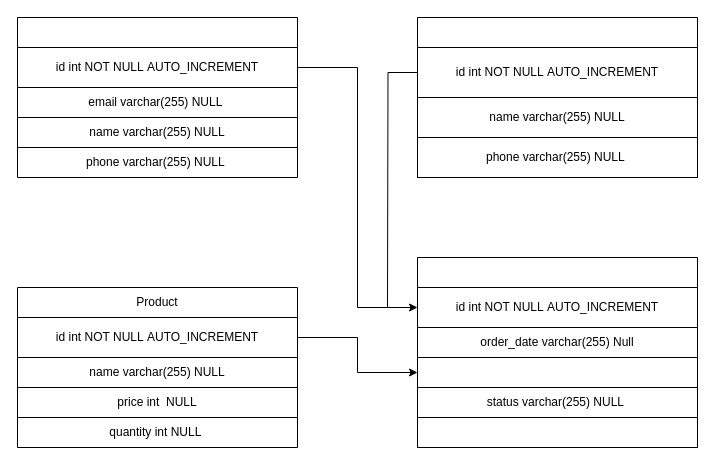
This 715x465 diagram has some shape labels left out. Each missing label, with the box of its shape:
Customers: (16, 16, 298, 178)
Delivery: (416, 256, 698, 418)
order_quantity int NULL: (416, 416, 698, 448)
product_id int NULL: (416, 356, 698, 388)
Shipper: (416, 16, 698, 178)
